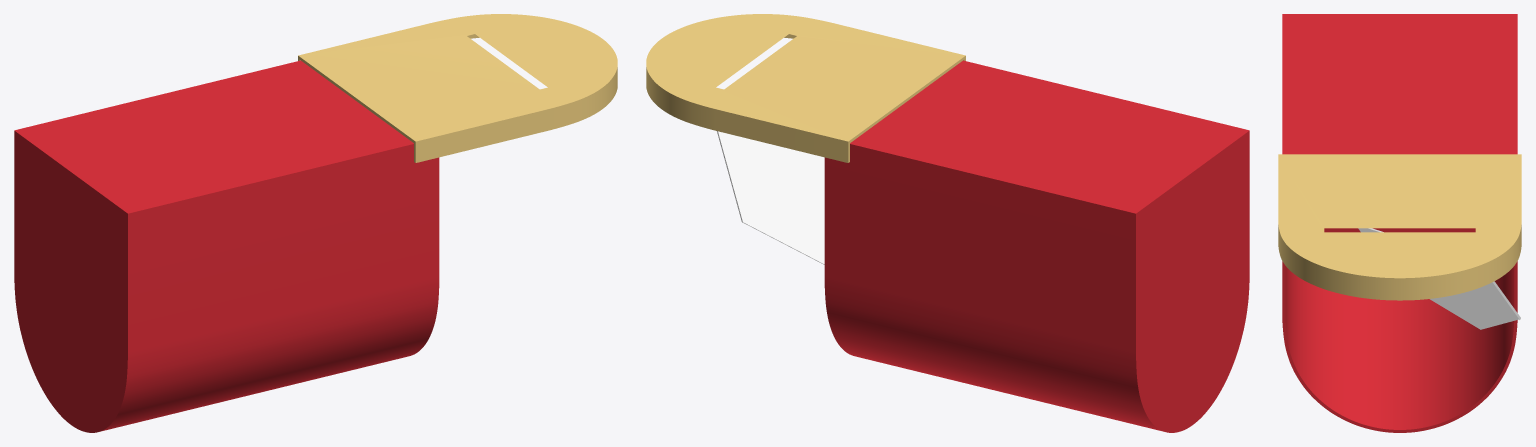
The model's file is postbox.glb.
3 views of the same model, side by side, from view 1: azimuth 30°, elevation 25°; view 2: azimuth 150°, elevation 25°; view 3: azimuth 270°, elevation 25° (orthographic). The views are drawn at different scales.
Parts seen in each view (by area): view 1: Cube, Cube.001; view 2: Cube, Cube.001, Plane.001; view 3: Cube, Cube.001, Plane.001.
Boxes of the visible parts, x1=… form: Cube: x1=14, y1=60, x2=439, y2=432; Cube.001: x1=298, y1=14, x2=617, y2=162; Cube: x1=824, y1=60, x2=1249, y2=432; Cube.001: x1=646, y1=14, x2=965, y2=162; Plane.001: x1=717, y1=131, x2=824, y2=264; Cube: x1=1282, y1=14, x2=1517, y2=432; Cube.001: x1=1278, y1=154, x2=1521, y2=300; Plane.001: x1=1358, y1=228, x2=1520, y2=329.
Bounding box in the file's own units: 5.39 × 2.49 × 2.07.
